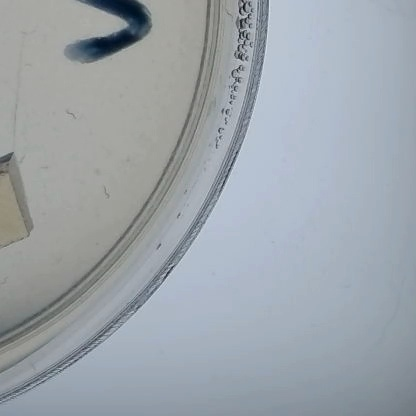worm: (84, 168, 118, 198), (55, 104, 81, 127), (11, 24, 34, 42), (33, 156, 53, 173), (0, 272, 14, 287), (21, 150, 29, 164)
